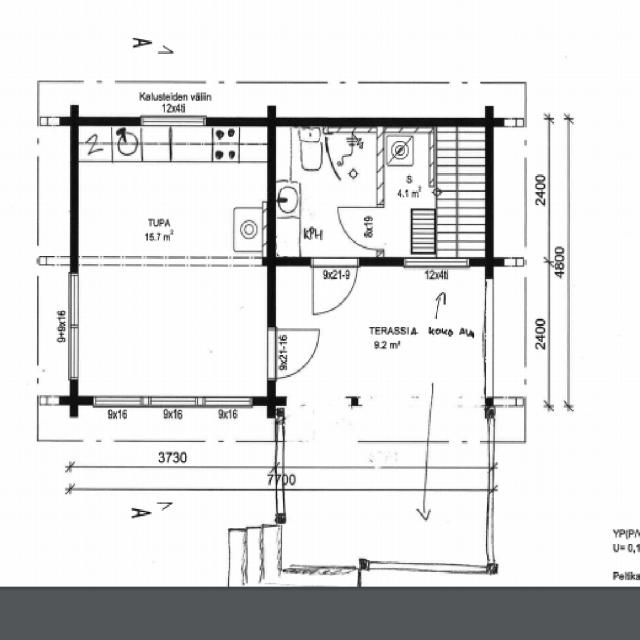door: (267, 329, 321, 379), (313, 258, 357, 315), (338, 207, 384, 249)
